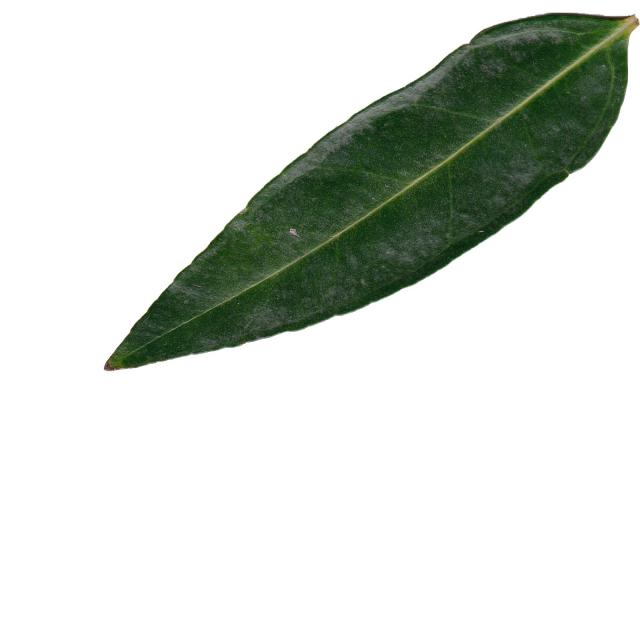Medicinal-Rose Apple: (102, 4, 640, 370)
